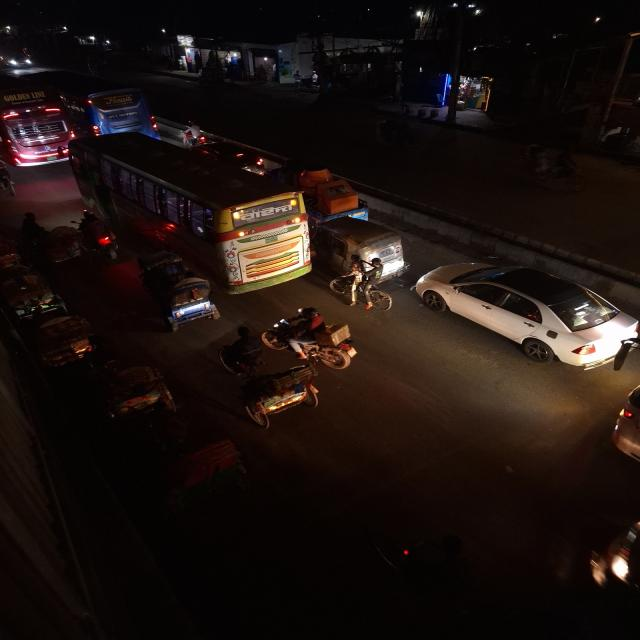bicycle: (332, 258, 380, 308)
bus: (65, 131, 314, 287), (59, 71, 162, 139), (0, 74, 73, 168)
car: (411, 257, 639, 371), (608, 378, 640, 474)
cng: (323, 216, 411, 276)
motorcycle: (272, 306, 360, 371), (77, 209, 121, 259)
pickup_van: (306, 172, 370, 222)
rickshaw: (130, 431, 252, 516), (218, 346, 322, 428), (133, 255, 224, 332), (3, 301, 102, 369), (86, 358, 177, 426), (21, 211, 88, 270), (1, 263, 60, 323), (518, 141, 586, 185), (0, 228, 21, 276), (0, 158, 17, 200)
